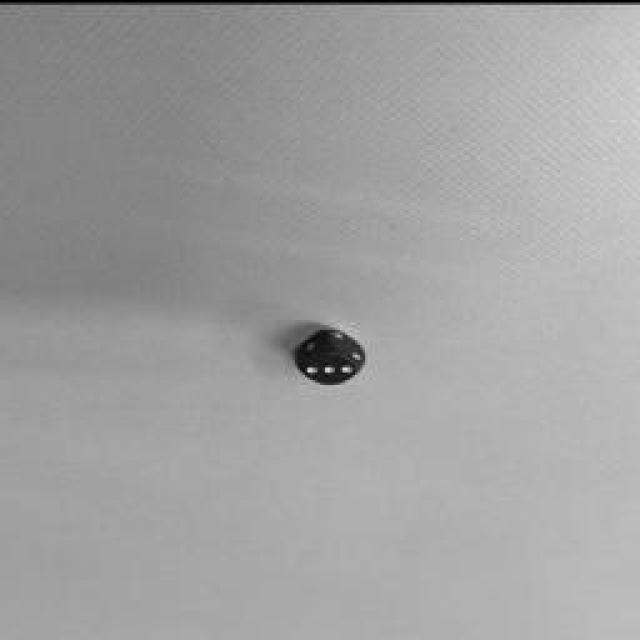dice_3: (300, 349, 358, 381)
